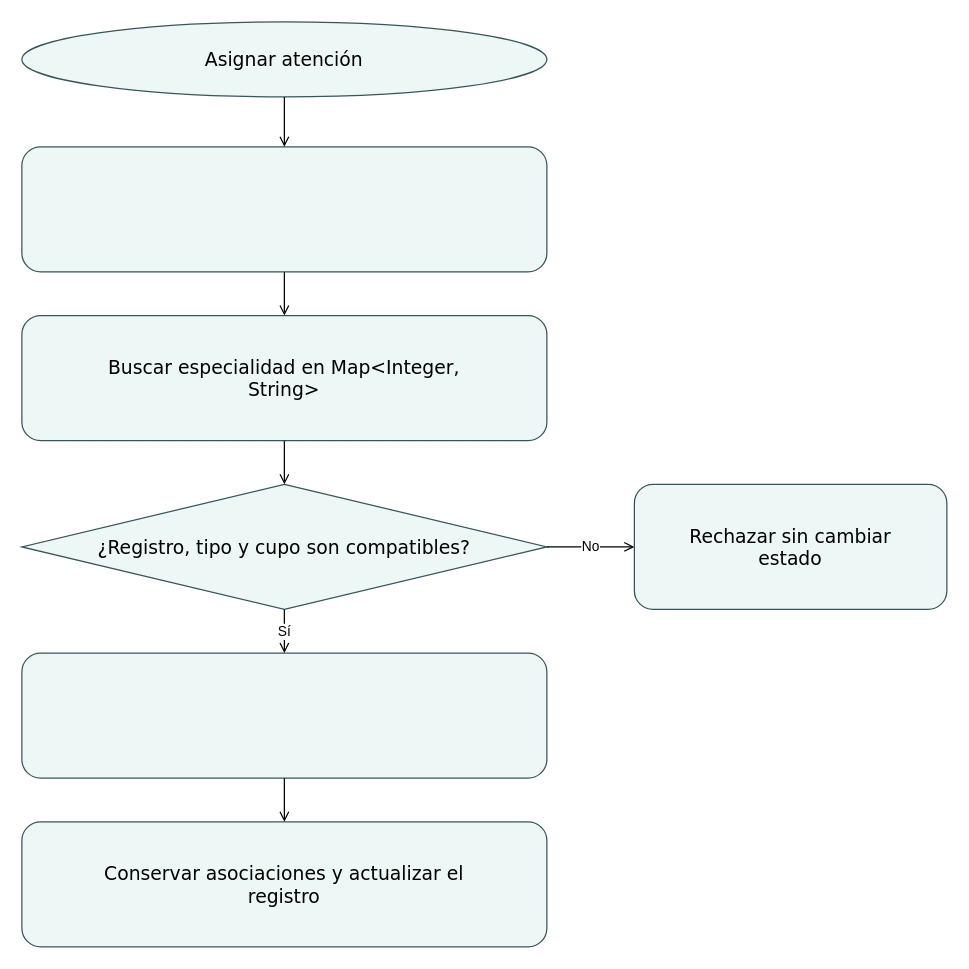
This 969x969 diagram has some shape labels left out. The centre of each missing label's shape, as x and y in pixels:
Asignar médico o pedir tratamiento al enfermero: (284,715)
Recibir paciente o solicitud del personal: (284,209)
